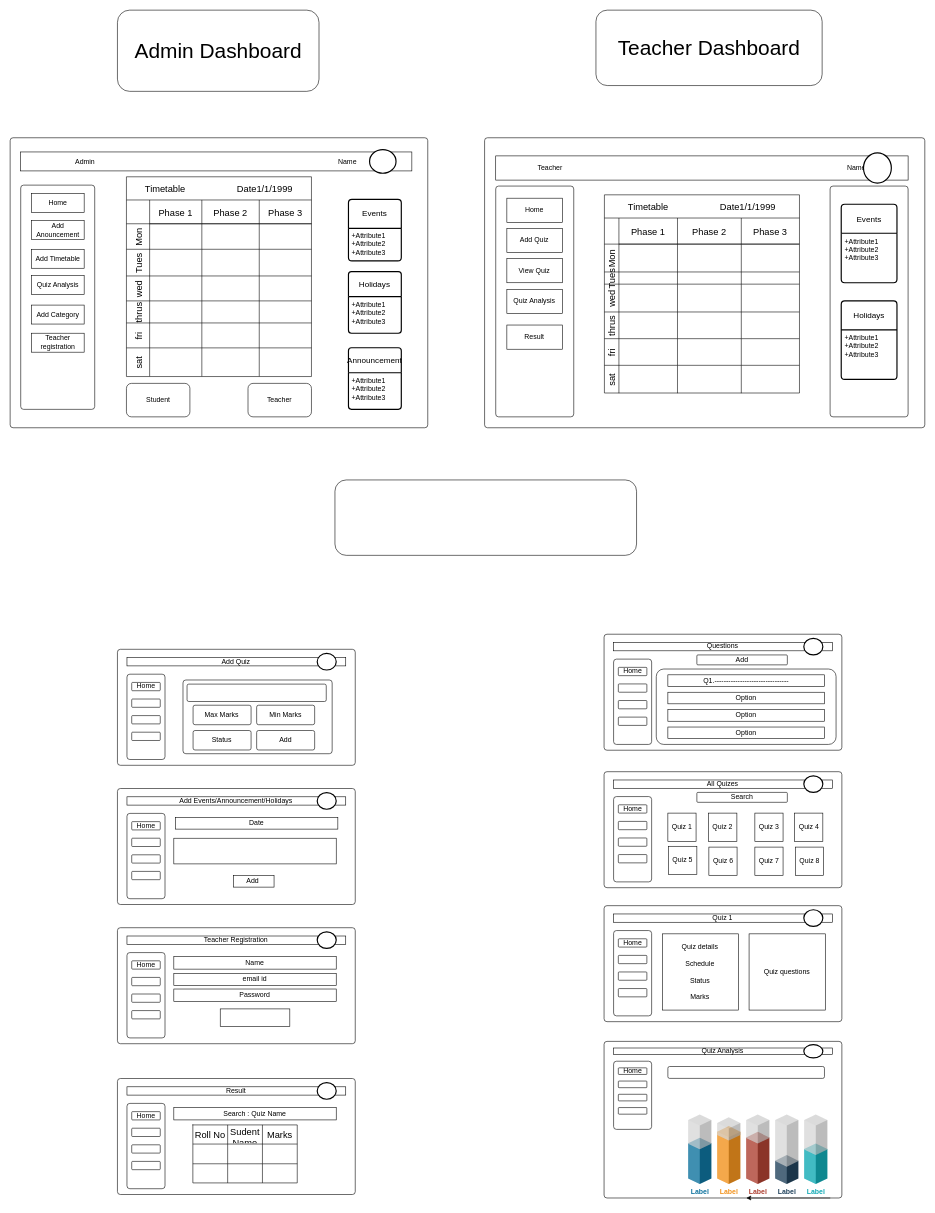
Some shapes in this 935 by 1213 pixel diagram are drawn without their labels. The centre of each missing label's shape, as x and y in pixels:
"On graph bar click quiz details" belongs at (x=745, y=1072).
"Quiz : Title" belongs at (x=256, y=693).
"Register" belongs at (x=255, y=1017).
"Teacher Admin Functionality Pages" belongs at (x=485, y=517).
"TextArea Details" belongs at (x=254, y=851).
